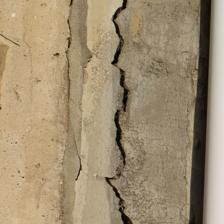Crack: (101, 3, 142, 224), (60, 4, 85, 120)
